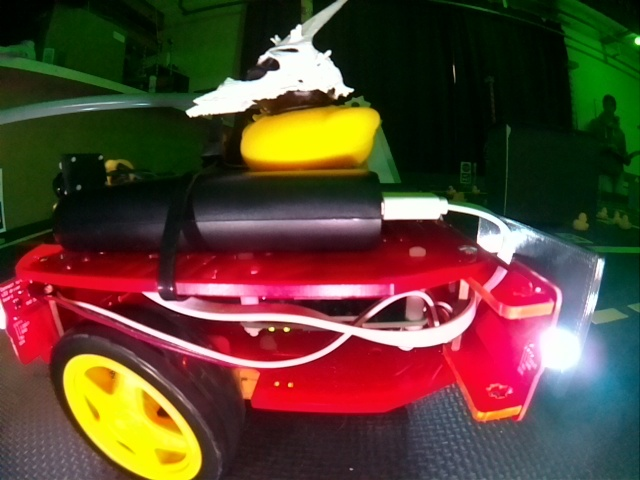Duckie: (186, 24, 380, 169), (572, 212, 590, 230)
Duckiebot: (2, 184, 605, 478)
